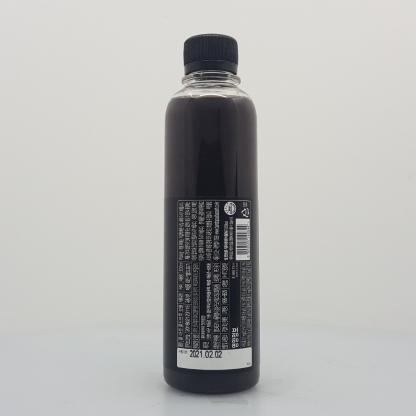--------------300ML: (163, 33, 260, 395)
